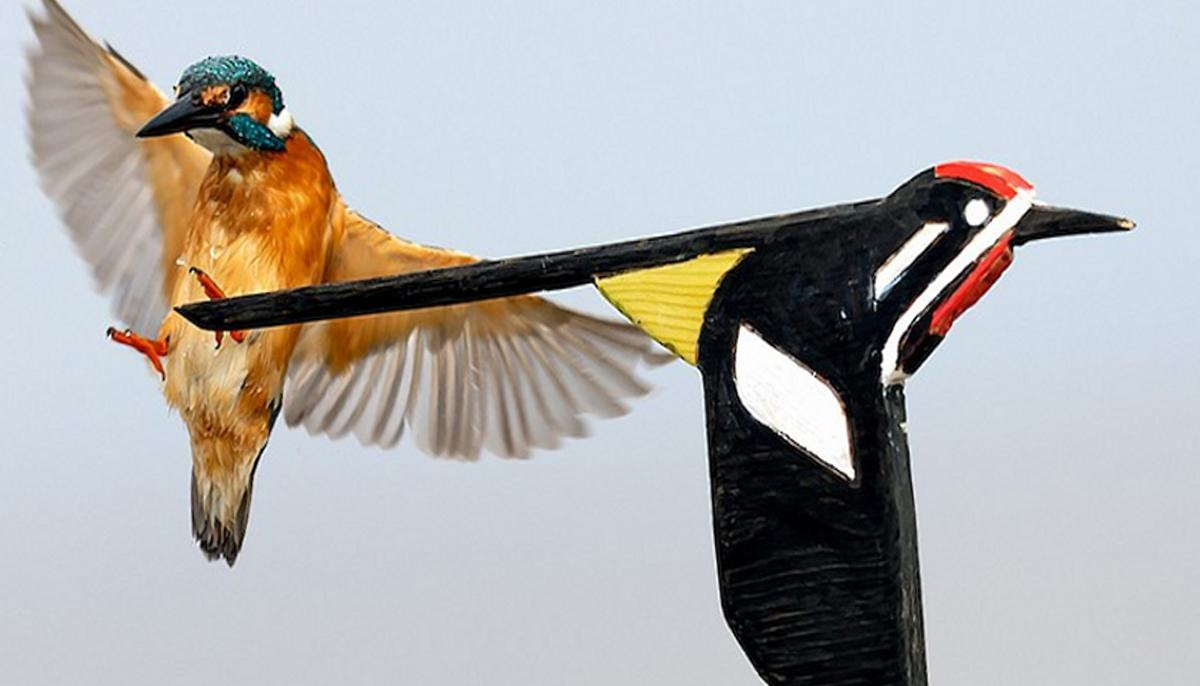kingfisher: (28, 8, 680, 527)
